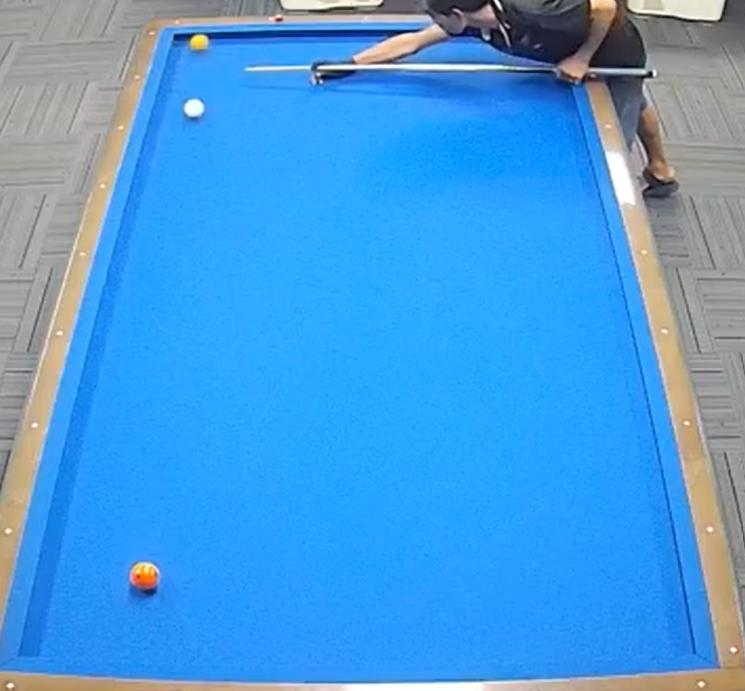orange ball: (126, 556, 168, 605)
white ball: (180, 96, 208, 125)
yellow ball: (186, 27, 213, 60)
